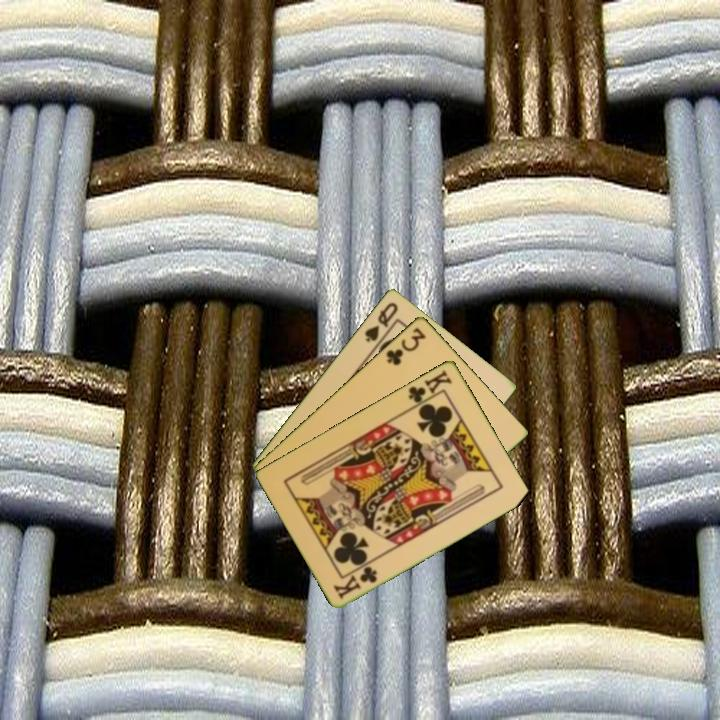3c: (383, 324, 429, 368)
Kc: (404, 366, 455, 410), (330, 562, 380, 602)
Qs: (361, 298, 401, 345)
